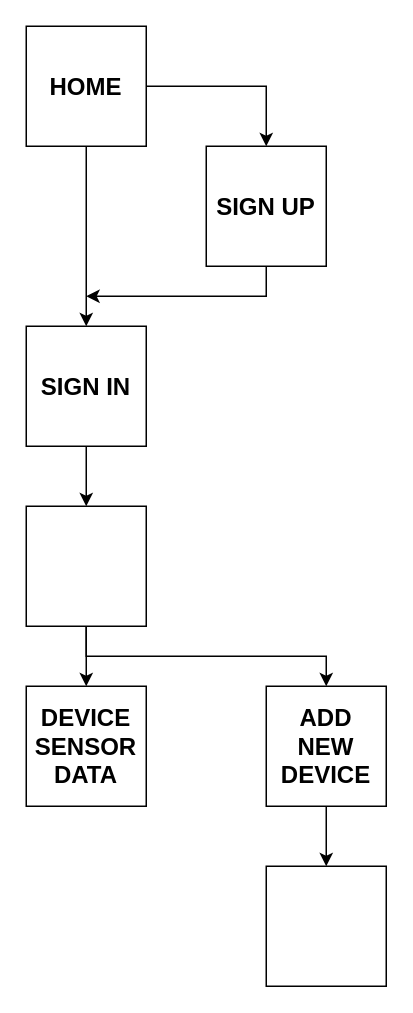
Some shapes in this 413 by 1013 pixel diagram are drawn without their labels. Here are the shapes that lost their labels. From the top down, the centre of each, then its label:
At (x=85, y=565): "DEVICES".
At (x=325, y=925): "DEVICE CREATED".
